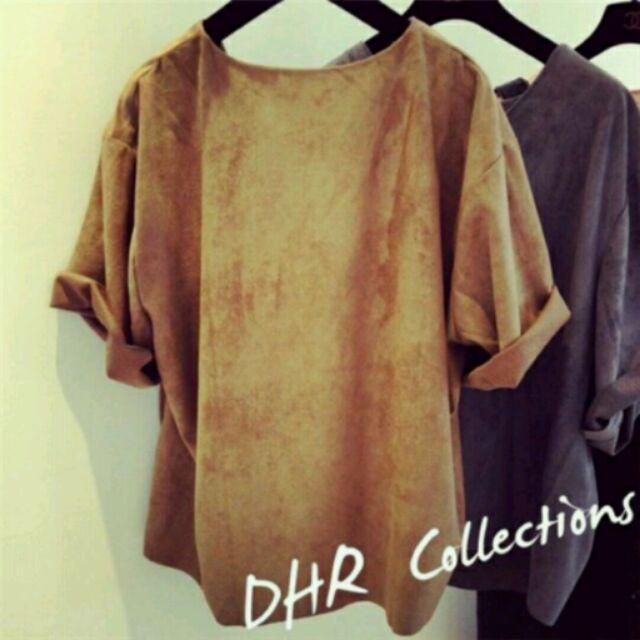Tops: (52, 18, 568, 625)
